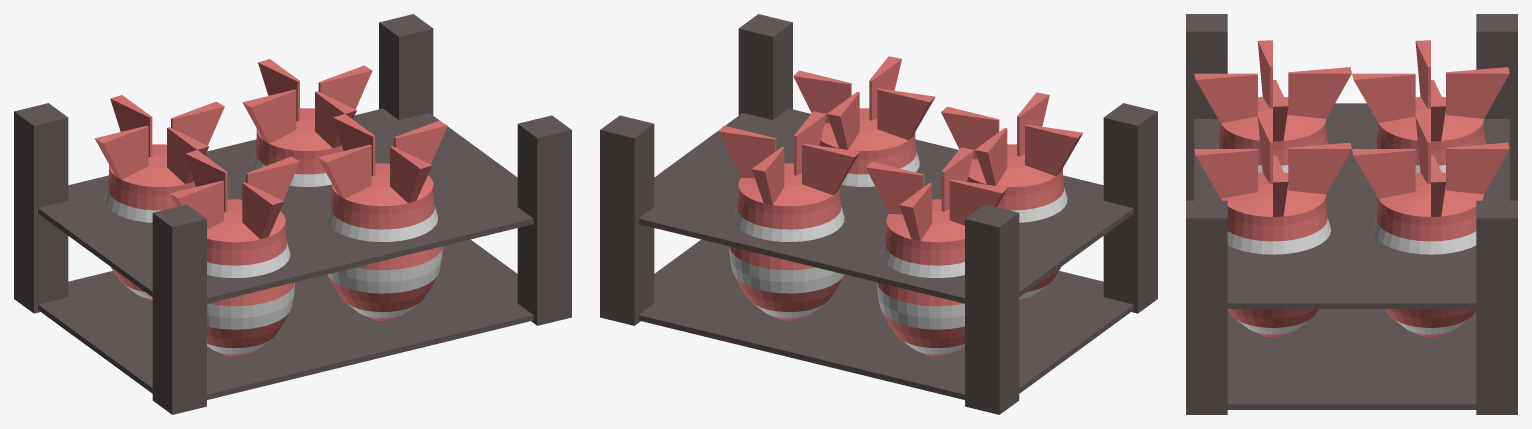
Rendered from BombAmmo.dae.
The picture shows the model from 3 angles, left to right: view 1: azimuth 30°, elevation 25°; view 2: azimuth 150°, elevation 25°; view 3: azimuth 270°, elevation 25°; orthographic projection. The views are drawn at different scales.
Parts seen in each view (by area): view 1: Cube.005, Cylinder, Cylinder.002, Cylinder.005, Cylinder.003; view 2: Cube.005, Cylinder.003, Cylinder.005, Cylinder.002, Cylinder; view 3: Cube.005, Cylinder.003, Cylinder, Cylinder.002, Cylinder.005.
Boxes of the visible parts, x1,y1,x2,y2 form: Cube.005: (14,14,571,414); Cylinder: (317,114,447,320); Cylinder.002: (170,150,299,356); Cylinder.005: (95,95,224,300); Cylinder.003: (242,59,372,186); Cube.005: (600,14,1157,414); Cylinder.003: (718,111,859,320); Cylinder.005: (866,147,1007,356); Cylinder.002: (941,92,1082,300); Cylinder: (793,56,935,186); Cube.005: (1186,14,1517,414); Cylinder.003: (1352,115,1509,337); Cylinder: (1194,115,1351,337); Cylinder.002: (1194,40,1351,172); Cylinder.005: (1352,40,1509,172).
Bounding box in the file's own units: 1.15 × 0.789 × 0.5158.
